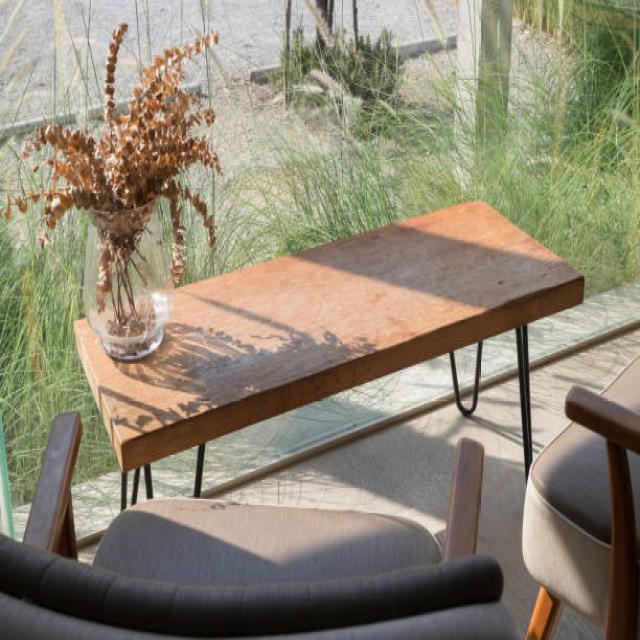table: (72, 196, 585, 515)
